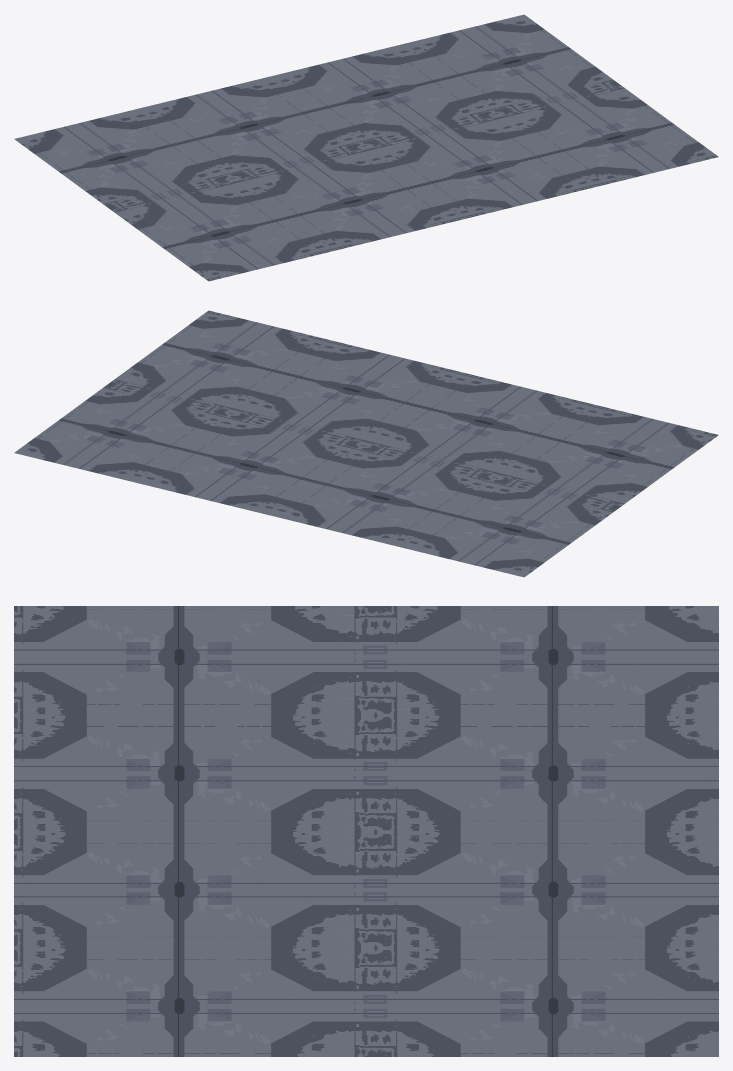
The model's file is Chao.fbx.
3 views of the same model, one above another, from view 1: azimuth 30°, elevation 25°; view 2: azimuth 150°, elevation 25°; view 3: azimuth 270°, elevation 25° (orthographic). The views are drawn at different scales.
Parts seen in each view (by area): view 1: Plane; view 2: Plane; view 3: Plane.
Boxes of the visible parts, x1,y1,x2,y2 form: Plane: (14,14,718,281); Plane: (14,310,718,577); Plane: (14,606,718,1056).
Size of the model in its own units: 370 by 560 by 0.
